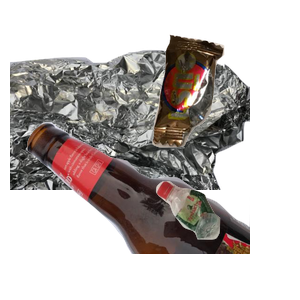glass: (25, 120, 265, 300)
metal: (10, 47, 250, 227)
plastic: (153, 178, 300, 300)
trash: (150, 32, 300, 172)
